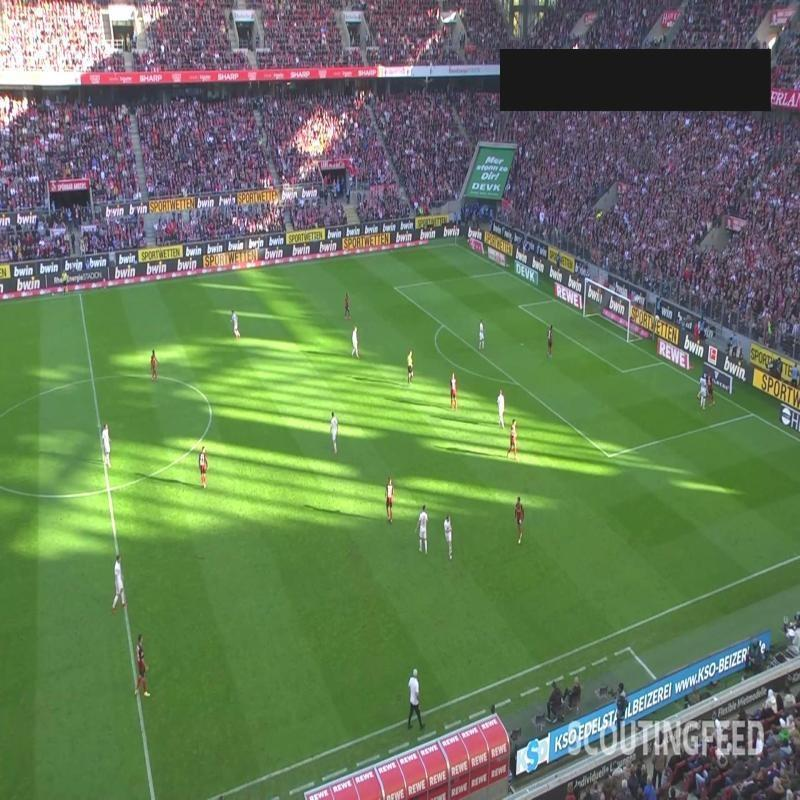1: (448, 236, 462, 249)
10: (436, 319, 450, 333)
11: (508, 374, 526, 393)
12: (594, 444, 622, 468)
13: (73, 288, 86, 301)
14: (84, 370, 99, 386)
15: (100, 481, 115, 498)
2: (498, 264, 512, 278)
3: (547, 292, 561, 306)
4: (655, 352, 671, 372)
5: (746, 406, 760, 420)
7: (512, 298, 526, 312)
8: (616, 364, 631, 378)
9: (388, 280, 402, 294)
c: (200, 398, 214, 412)
